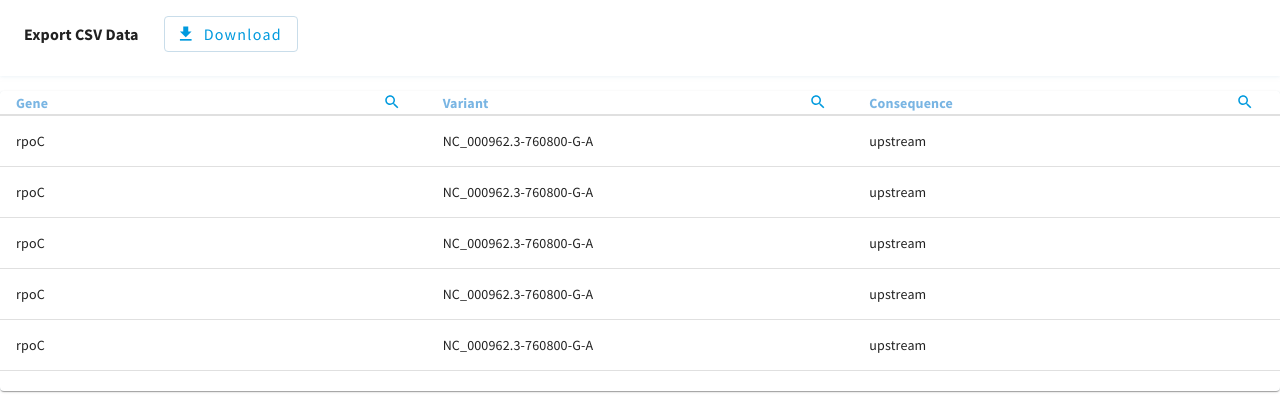
Test: DataGrid component test › shows filter on filter button click
Click the button with test id "filter-button-geneName" at {"x": 392, "y": 103}, box [377,92,407,114]
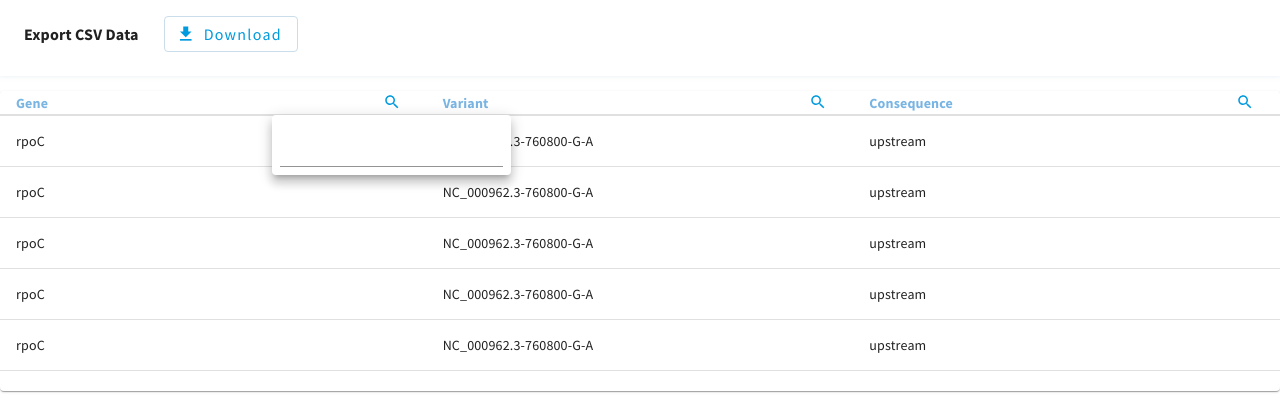
expect the element named "header-filter-input" is shown: met, box [296,135,479,167]
